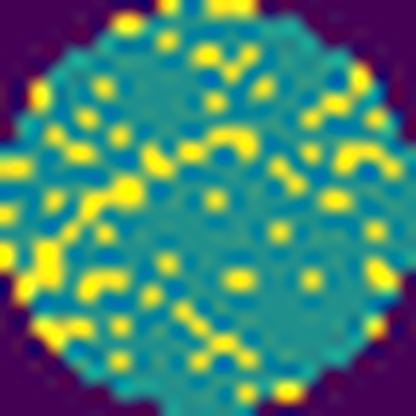Scratch: (7, 171, 145, 306)
